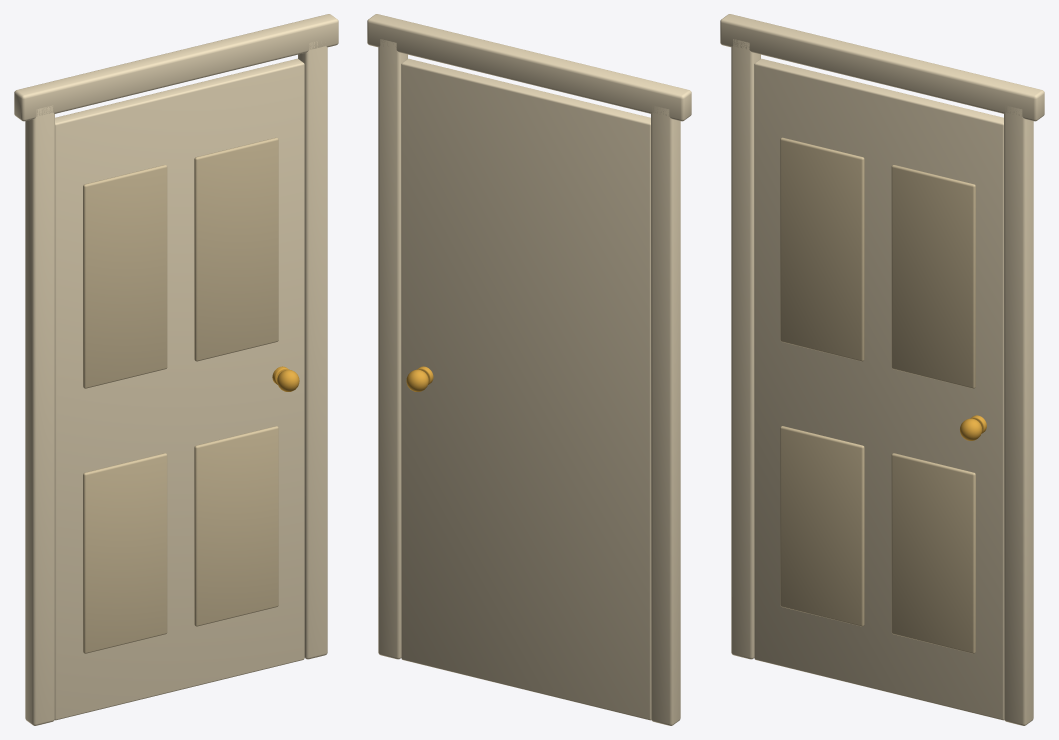
File: door.glb
3 views of the same model, side by side, from view 1: azimuth 30°, elevation 25°; view 2: azimuth 150°, elevation 25°; view 3: azimuth 330°, elevation 25° (orthographic).
Visible parts, largest first — view 1: door_slab, door; view 2: door_slab, door; view 3: door_slab, door.
Boxes of the visible parts, x1,y1,x2,y2 form: door_slab: [54, 58, 304, 720]; door: [14, 14, 338, 725]; door_slab: [401, 58, 651, 720]; door: [367, 14, 691, 725]; door_slab: [754, 58, 1004, 720]; door: [720, 14, 1044, 725].
Size of the model in its own units: 1.14 by 2.18 by 0.215.
